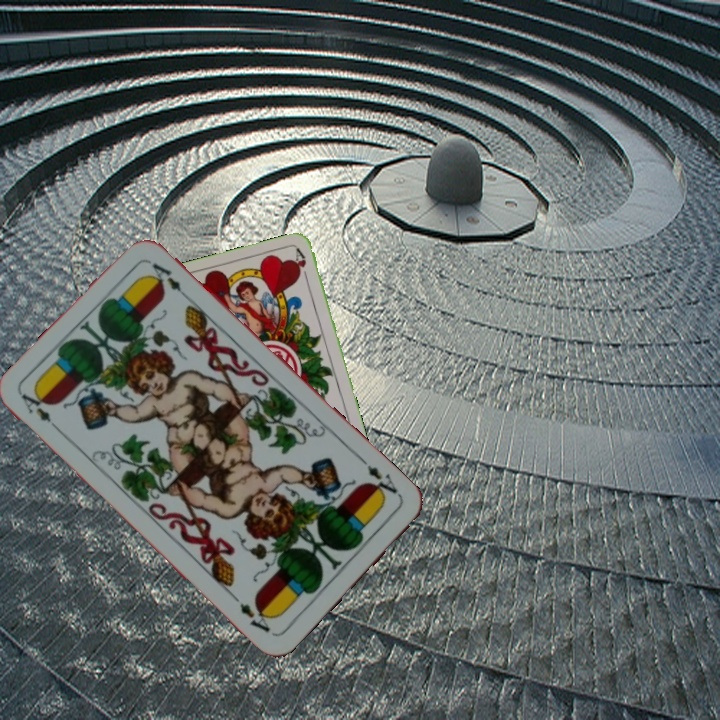EA: (17, 388, 64, 436), (357, 455, 400, 503)
